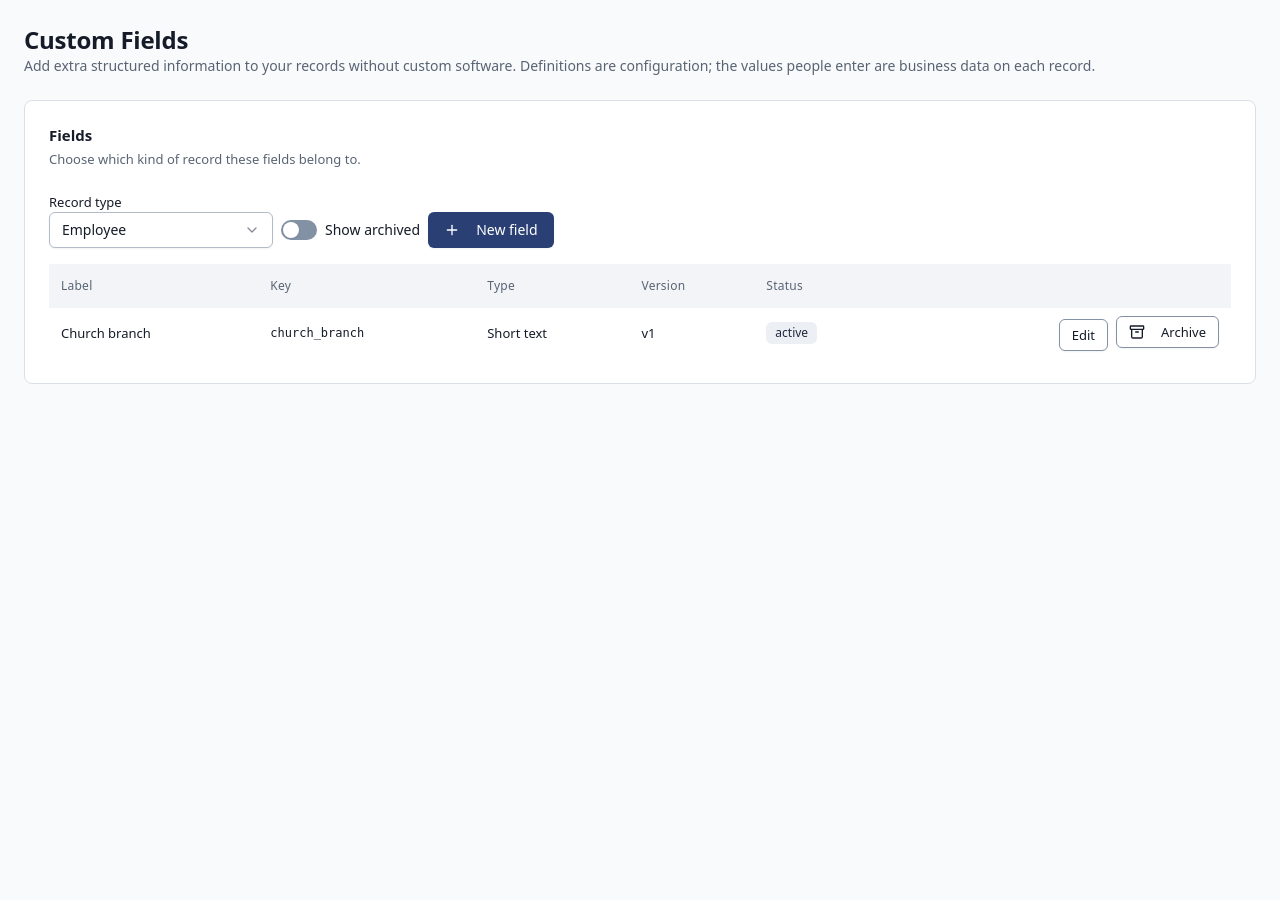
Test: Custom Fields — archive / restore confirmation › asks before archiving, naming the field and what happens to values; Cancel sends nothing
Click the button "Archive". click: (1168, 332)
box: [1116, 316, 1219, 348]
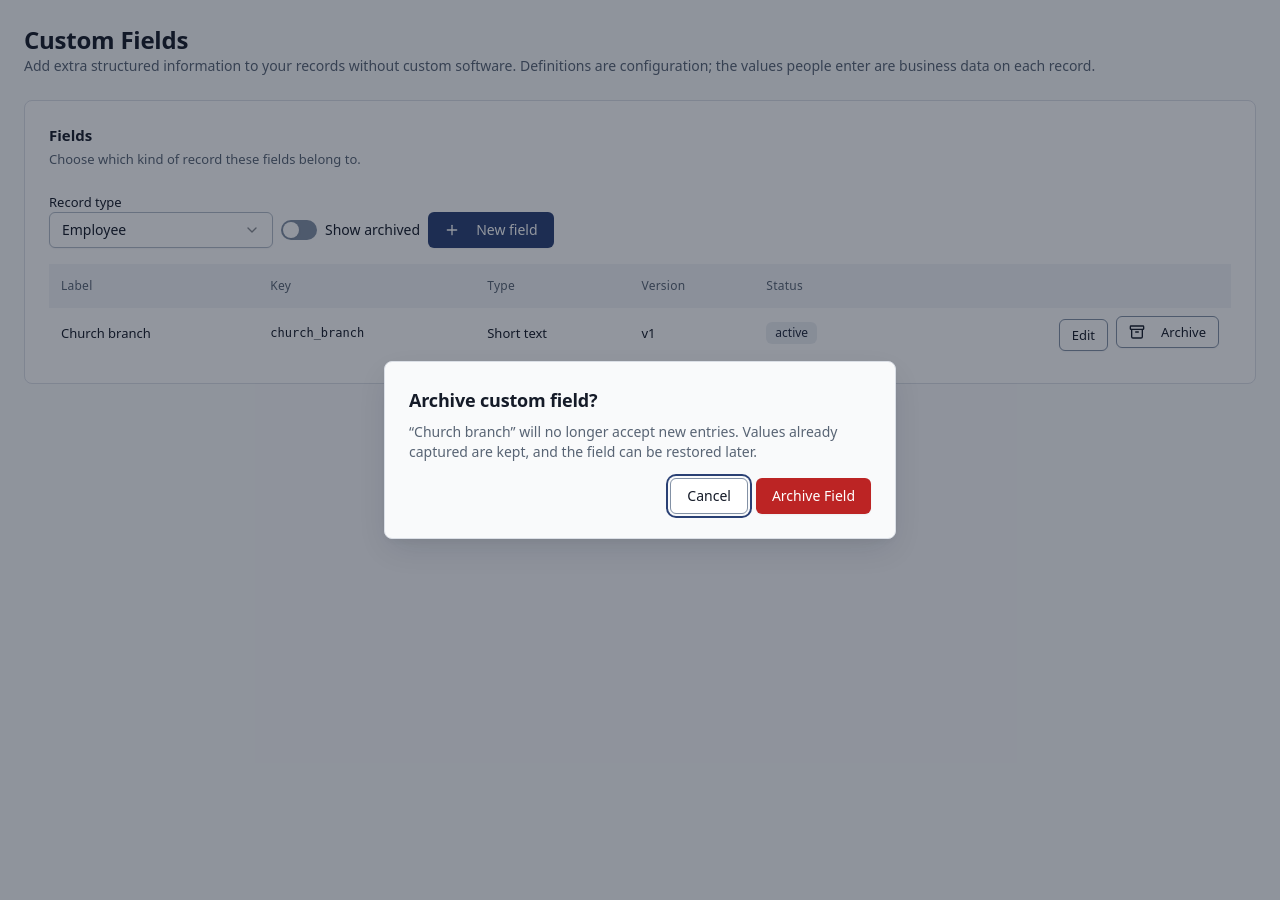
Now the dialog with test id "dialog-archive-custom-field" shows "Archive custom field?", box [409, 388, 598, 412]
Now the dialog with test id "dialog-archive-custom-field" shows "“Church branch” will no longer accept new entries. Values already captured are kept", box [384, 361, 896, 539]
Now the button with test id "dialog-archive-custom-field-confirm" reads "Archive Field", box [756, 478, 871, 514]
Click the button with test id "dialog-archive-custom-field-cancel". click: (709, 496)
box: [670, 478, 748, 514]
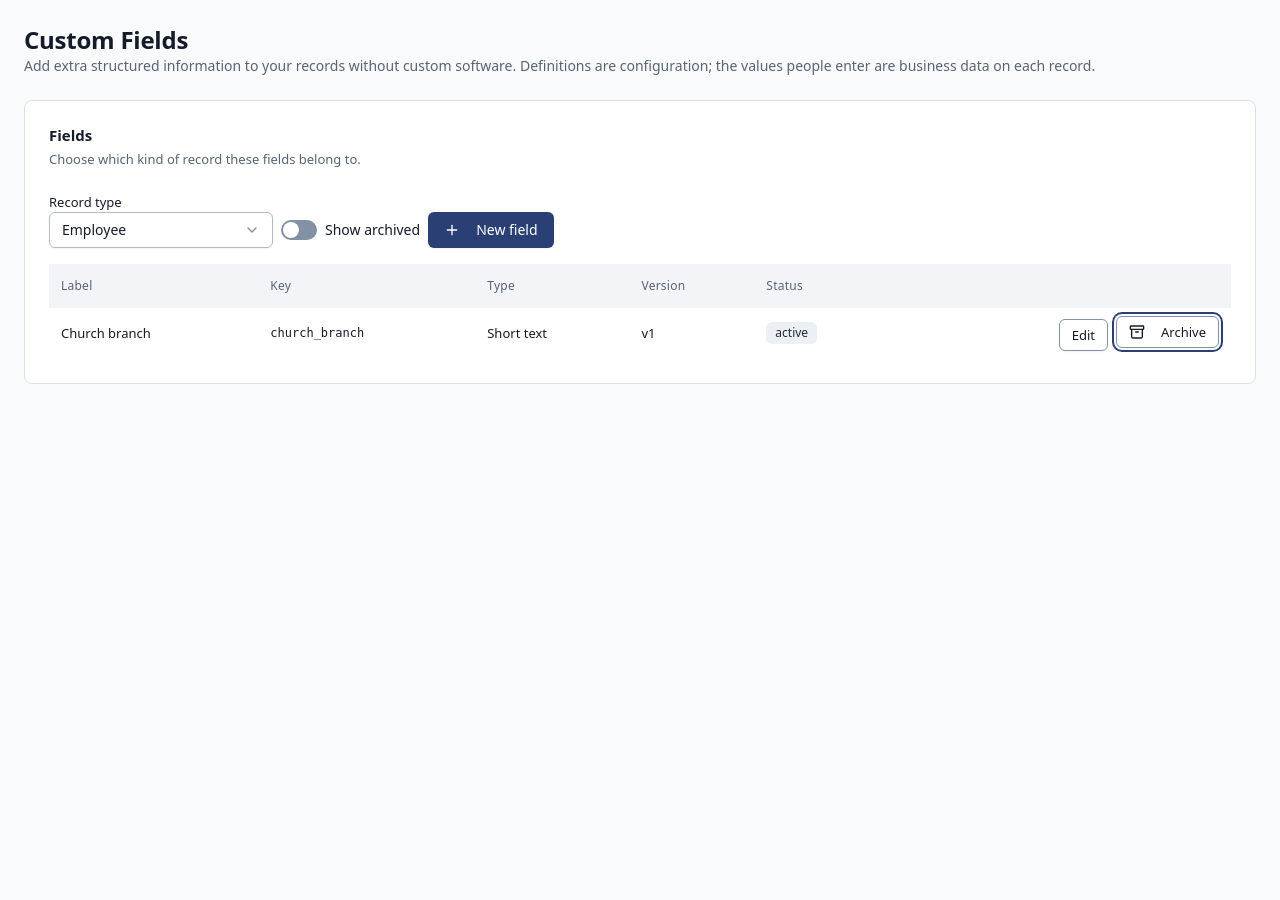
Now the dialog with test id "dialog-archive-custom-field" is gone
